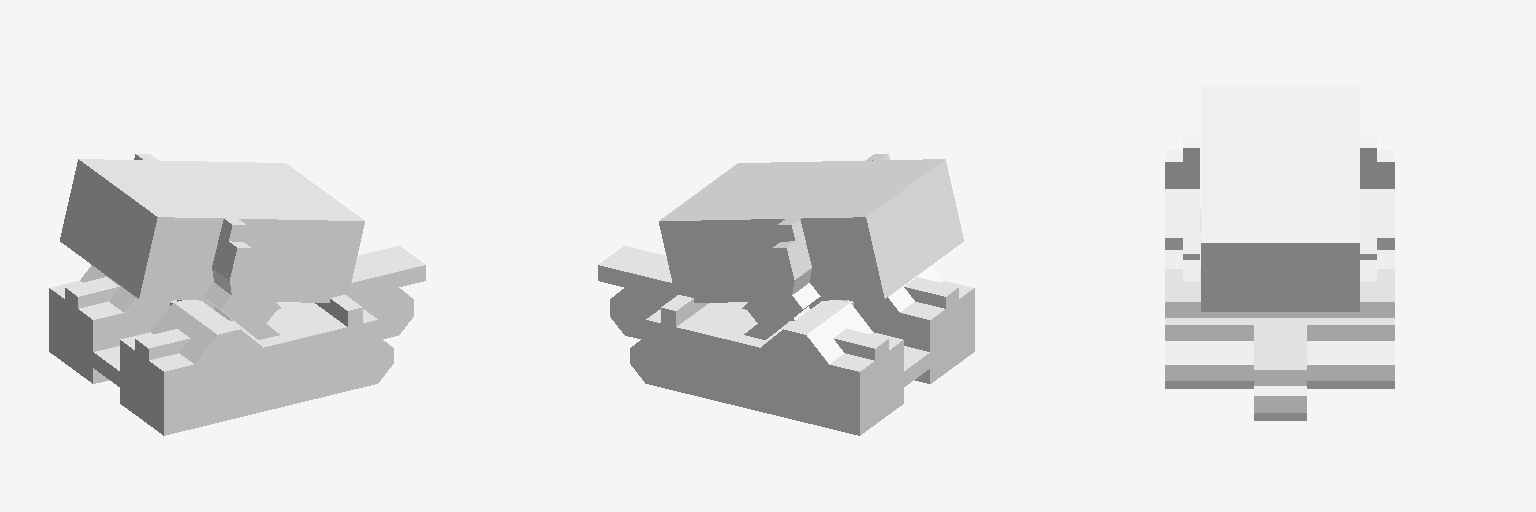
Rendered from robotbody.obj.
The picture shows the model from 3 angles: view 1: azimuth 30°, elevation 25°; view 2: azimuth 150°, elevation 25°; view 3: azimuth 270°, elevation 25°; orthographic projection.
Visible parts, largest first — view 1: cube1_sep5, cube1, cube1_sep4; view 2: cube1_sep5, cube1, cube1_sep3; view 3: cube1, cube1_sep5, cube1_sep3, cube1_sep4.
Part boxes in pixels (x1,y1,x2,y2): cube1_sep5: (49,246,425,435); cube1: (60,159,364,302); cube1_sep4: (203,219,279,339); cube1_sep5: (598,246,974,435); cube1: (659,159,963,302); cube1_sep3: (744,218,820,339); cube1: (1201,87,1359,311); cube1_sep5: (1165,209,1394,420); cube1_sep3: (1359,137,1394,281); cube1_sep4: (1165,137,1199,281).
Size of the model in its own units: 2.05 by 1.27 by 1.3.